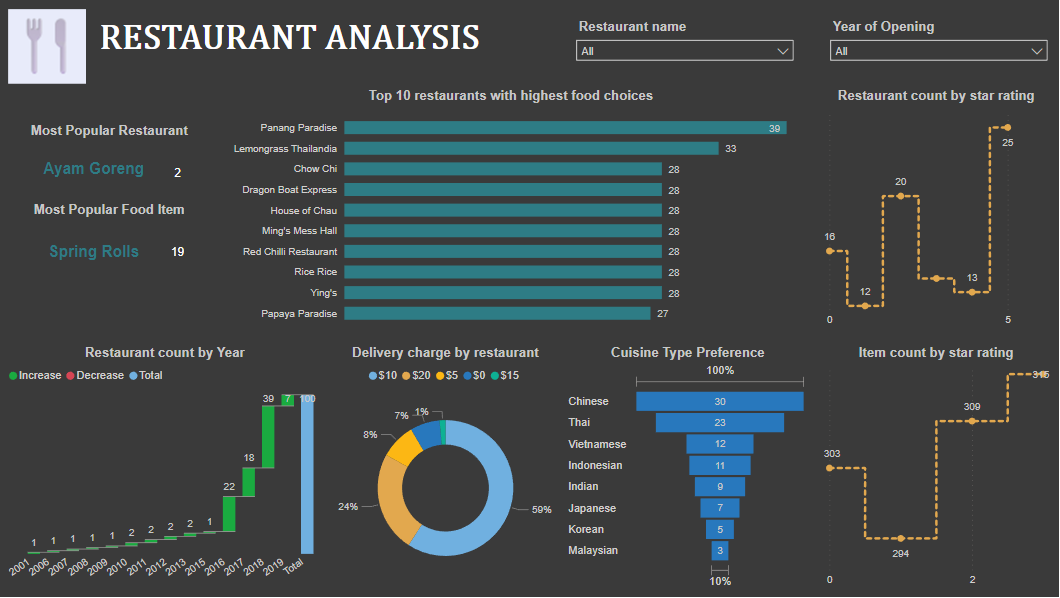

Layout of this report page (visuals, bound fields, positions):
{"tool":"powerbi","page":{"name":"Stats","canvas":[1280,720],"ordinal":0},"visuals":[{"type":"barChart","title":"Top 10 restaurants with highest food choices","fields":{"Category":["restaurant.restaurant_name"],"Y":["CountNonNull(item.item_name)"]},"box":[267,106,701.9,294.5],"z":0},{"type":"lineChart","title":"Restaurant count by star rating","fields":{"Category":["restaurant.rating"],"Y":["Count(restaurant.restaurant_name)"]},"box":[986.8,106,287.7,294.5],"z":1000},{"type":"card","fields":{"Values":["Measures Table.popular_food"]},"box":[41.3,273.9,147.3,61.9],"z":2000},{"type":"textbox","box":[9.8,239.2,246.9,33.6],"z":3000},{"type":"card","fields":{"Values":["Measures Table.popular_resto"]},"box":[41.3,177.5,147.3,53.7],"z":4000},{"type":"textbox","box":[9.8,143.5,246.9,33.6],"z":5000},{"type":"card","fields":{"Values":["Measures Table.popfud%"]},"box":[198,284.6,35.3,42],"z":6000},{"type":"card","fields":{"Values":["Measures Table.poprestocount"]},"box":[198,188.8,35.3,42],"z":7000},{"type":"lineChart","title":"Item count by star rating","fields":{"Category":["item.chill_rating"],"Y":["CountNonNull(item.item_name)"]},"box":[986.8,415.7,287.7,298.7],"z":8000},{"type":"funnel","title":"Cuisine Type Preference","fields":{"Category":["restaurant.type"],"Y":["CountNonNull(restaurant.type)"]},"box":[681.3,415.7,298.7,298.7],"z":9000},{"type":"donutChart","title":"Delivery charge by restaurant","fields":{"Category":["restaurant.min_delivery_value"],"Y":["CountNonNull(restaurant.restaurant_name)"]},"box":[397.8,415.7,280.8,298.7],"z":10000},{"type":"waterfallChart","title":"Restaurant count by Year","fields":{"Category":["restaurant.open_date.Variation.Date Hierarchy.Year"],"Y":["CountNonNull(restaurant.restaurant_name)"]},"box":[5.5,415.7,388.1,298.7],"z":11000},{"type":"image","box":[0,5.5,115.6,100.5],"z":12000},{"type":"textbox","box":[115.6,17.9,502.4,60.6],"z":13000},{"type":"slicer","fields":{"Values":["restaurant.restaurant_name"]},"box":[686.8,17.9,282.2,60.6],"z":14000},{"type":"slicer","fields":{"Values":["restaurant.open_date.Variation.Date Hierarchy.Year"]},"box":[992.3,17.9,282.2,60.6],"z":15000}]}

Visuals, with their boxes in screenshot pixels (x1, y1, x2, y2), scaled from the page's 1280x720 canvas onto the 1060x598 screenshot:
"Top 10 restaurants with highest food choices" barChart: box=[221, 88, 802, 333]
"Restaurant count by star rating" lineChart: box=[817, 88, 1055, 333]
card - Measures Table.popular_food: box=[34, 227, 156, 279]
textbox: box=[8, 199, 213, 227]
card - Measures Table.popular_resto: box=[34, 147, 156, 192]
textbox: box=[8, 119, 213, 147]
card - Measures Table.popfud%: box=[164, 236, 193, 271]
card - Measures Table.poprestocount: box=[164, 157, 193, 192]
"Item count by star rating" lineChart: box=[817, 345, 1055, 593]
"Cuisine Type Preference" funnel: box=[564, 345, 812, 593]
"Delivery charge by restaurant" donutChart: box=[329, 345, 562, 593]
"Restaurant count by Year" waterfallChart: box=[5, 345, 326, 593]
image: box=[0, 5, 96, 88]
textbox: box=[96, 15, 512, 65]
slicer - restaurant.restaurant_name: box=[569, 15, 802, 65]
slicer - restaurant.open_date.Variation.Date Hierarchy.Year: box=[822, 15, 1055, 65]
